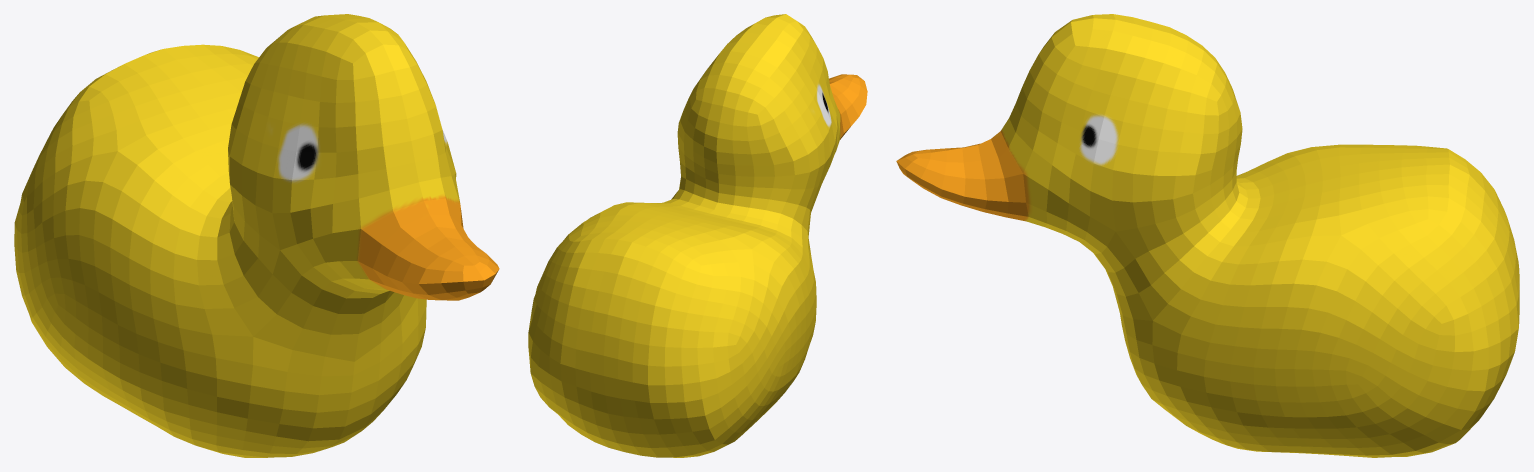
The model's file is duckShoes.fbx.
3 views of the same model, side by side, from view 1: azimuth 30°, elevation 25°; view 2: azimuth 150°, elevation 25°; view 3: azimuth 270°, elevation 25° (orthographic). The views are drawn at different scales.
Visible parts, largest first — view 1: duckShoe; view 2: duckShoe; view 3: duckShoe.
Part boxes in pixels (x1,y1,x2,y2): duckShoe: (14,14,499,457); duckShoe: (528,14,867,457); duckShoe: (896,14,1519,457).
Size of the model in its own units: 20.34 by 28.92 by 39.81.
1 material, 1 textured.
